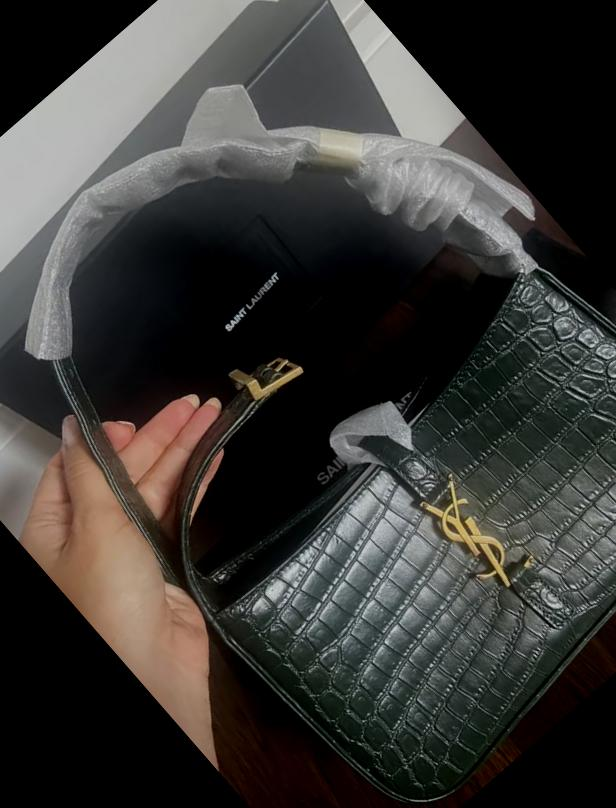YVES-SAINT-LAURENT: (414, 466, 538, 596)
